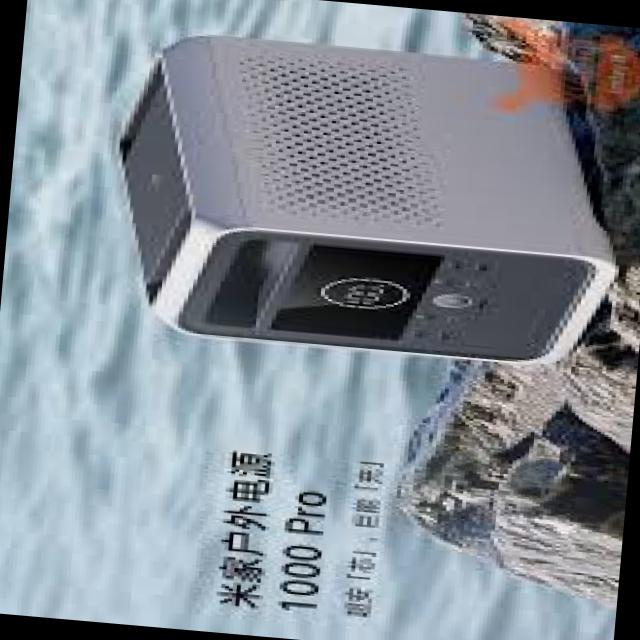portable-charger: (99, 25, 636, 372)
